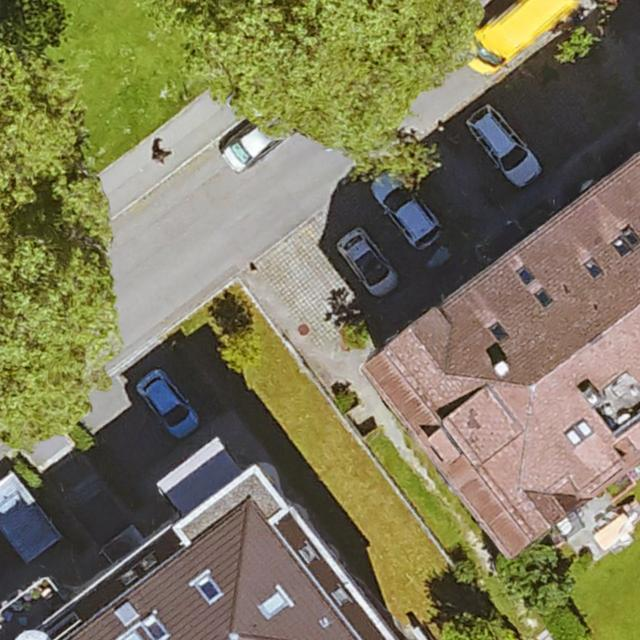tree: (177, 0, 475, 150), (0, 0, 95, 441), (493, 539, 577, 613), (556, 18, 609, 75), (444, 609, 526, 640), (215, 325, 263, 369), (336, 322, 373, 348)
